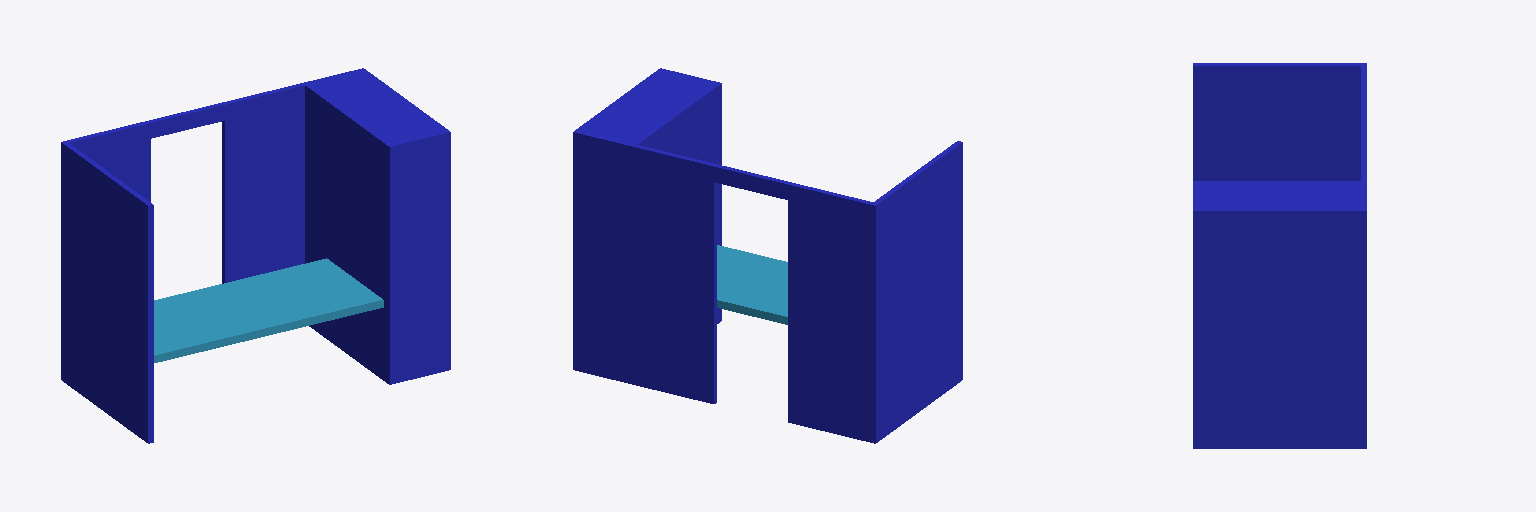
Rendered from bed2.obj.
The picture shows the model from 3 angles: view 1: azimuth 30°, elevation 25°; view 2: azimuth 150°, elevation 25°; view 3: azimuth 270°, elevation 25°; orthographic projection.
Parts seen in each view (by area): view 1: Cube.002; view 2: Cube.002; view 3: Cube.002.
Boxes of the visible parts, <box> form: Cube.002: <box>61,68,450,443</box>; Cube.002: <box>573,68,962,443</box>; Cube.002: <box>1193,63,1366,448</box>.
Bounding box in the file's own units: 4 × 3 × 2.